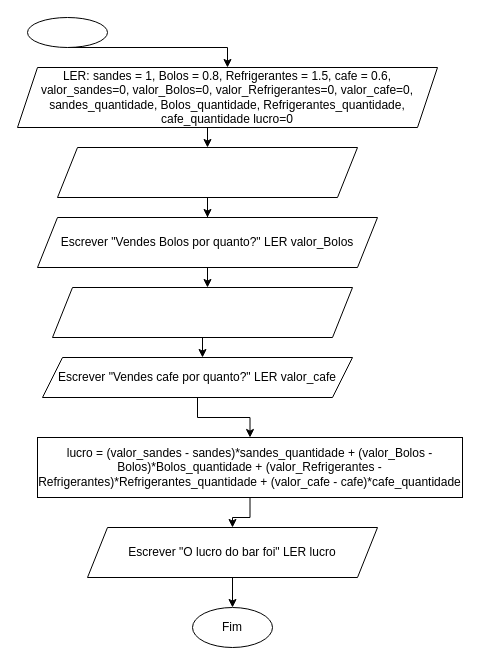
The diagram is 480 pixels wide and 665 high, and some of its shapes have lost their labels. The shapes that lost their labels are listed below. From the top down, each one's centre as x and y in pixels, then its label:
the point at 67,32: Inicio
the point at 207,172: Escrever "Vendes sandes por quanto?" LER valor_sandes
the point at 202,312: Escrever "Vendes Refrigerantes por quanto?" LER valor_Refrigerantes
